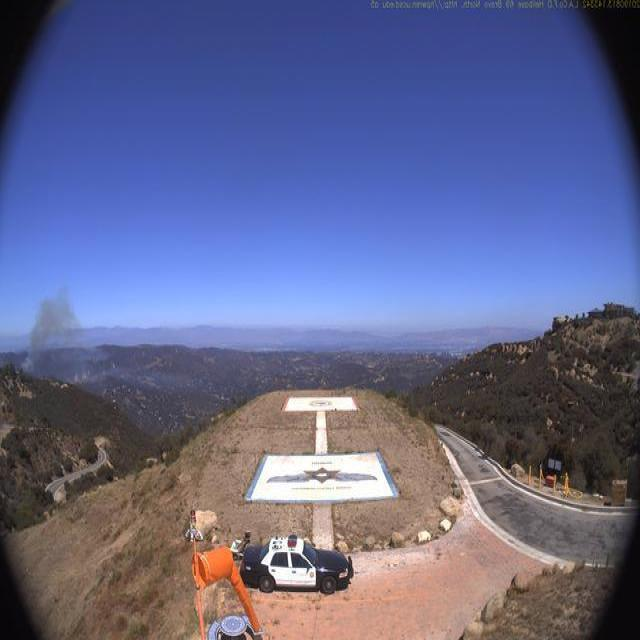Smoke: (19, 284, 87, 379)
